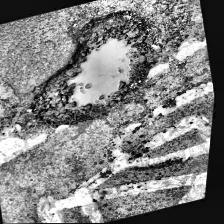pothole: (8, 3, 174, 137)
